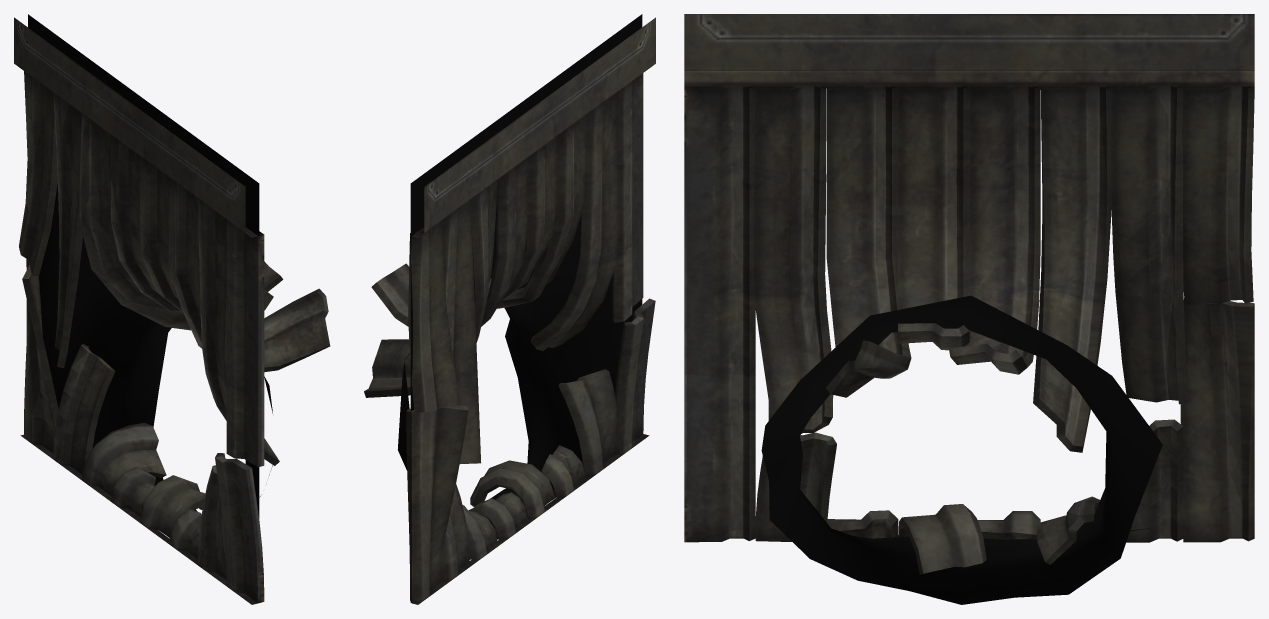
File: pplant_bulkhead_tunnel_exit.dae
3 renders of one model, left to right at view 1: azimuth 30°, elevation 25°; view 2: azimuth 150°, elevation 25°; view 3: azimuth 270°, elevation 25°, orthographic. The views are drawn at different scales.
Visible parts, largest first — view 1: bulkhead_tunnel_exit01; view 2: bulkhead_tunnel_exit01; view 3: bulkhead_tunnel_exit01.
Boxes of the visible parts, bbox=[...] form: bulkhead_tunnel_exit01: bbox=[14, 14, 330, 604]; bulkhead_tunnel_exit01: bbox=[364, 14, 655, 604]; bulkhead_tunnel_exit01: bbox=[684, 14, 1254, 604].
Size of the model in its own units: 1.72 by 4.23 by 4.
